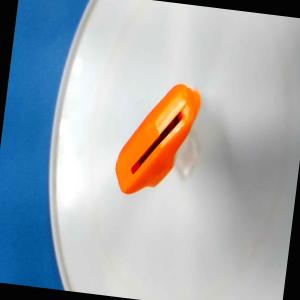estilete: (112, 74, 204, 204)
